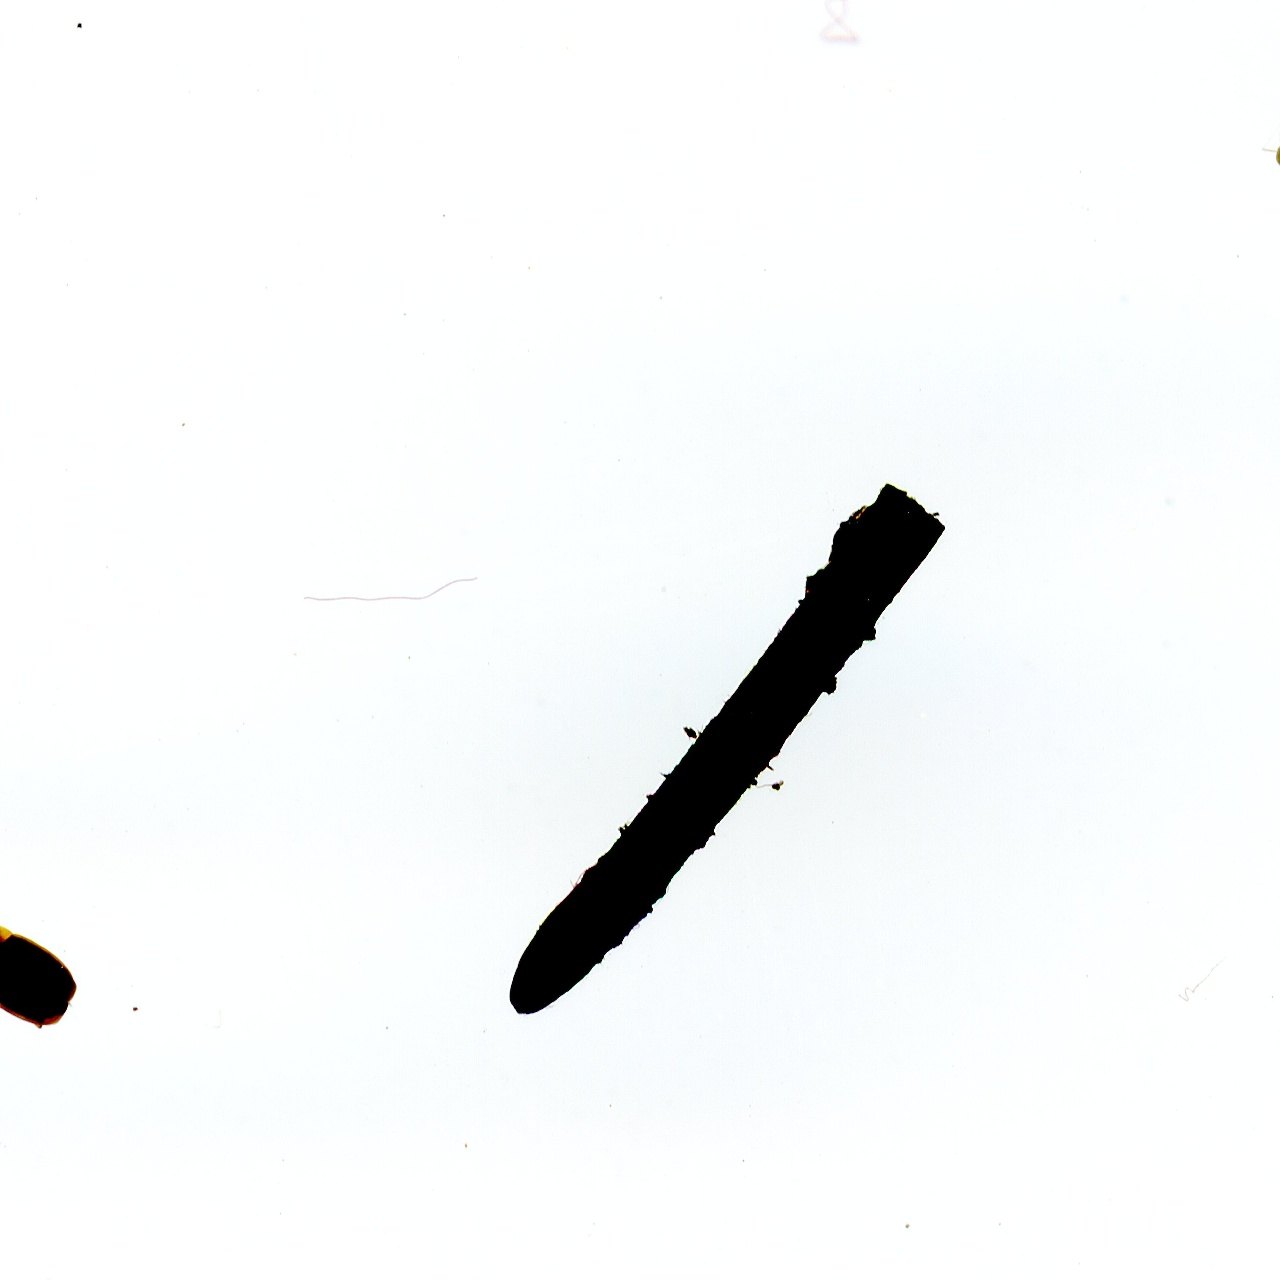arthropod: (0, 892, 96, 1049), (1258, 117, 1280, 185)
